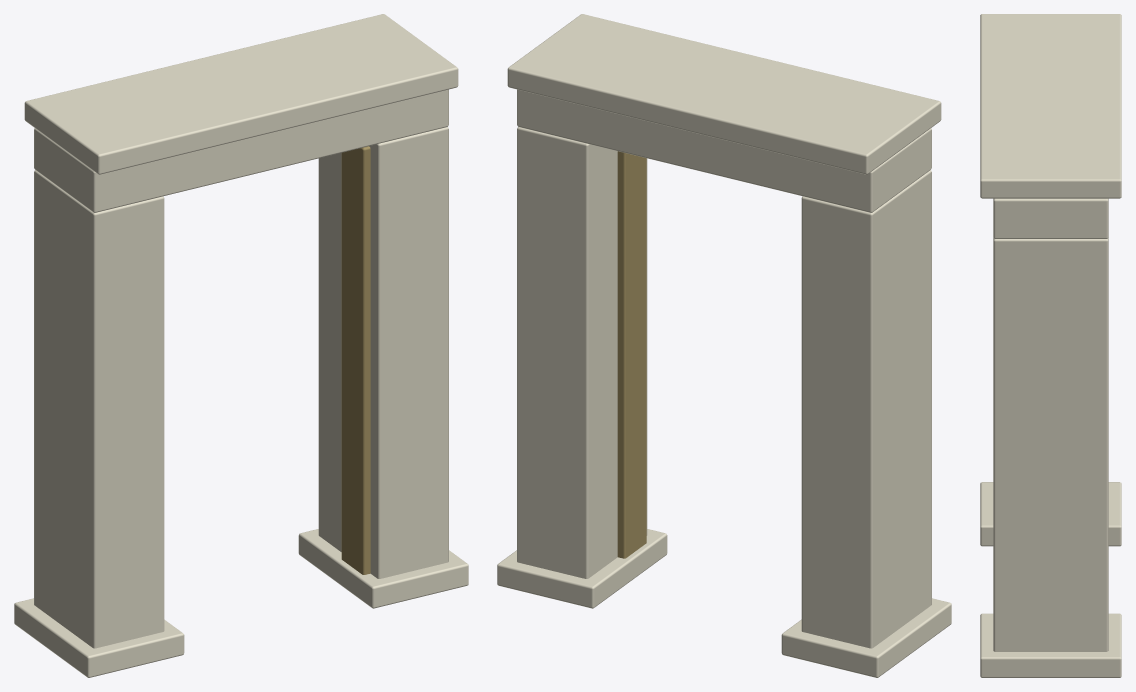
The model's file is water-clock-garden-and-hydraulic-puzzles-archway-door--7513dd66__31968.glb.
The picture shows the model from 3 angles, left to right: view 1: azimuth 30°, elevation 25°; view 2: azimuth 150°, elevation 25°; view 3: azimuth 270°, elevation 25°; orthographic projection. The views are drawn at different scales.
Parts seen in each view (by area): view 1: archway-door-surround; view 2: archway-door-surround; view 3: archway-door-surround.
Boxes of the visible parts, x1,y1,x2,y2 form: archway-door-surround: [14, 14, 468, 677]; archway-door-surround: [497, 14, 951, 677]; archway-door-surround: [980, 14, 1121, 677].
Size of the model in its own units: 2.36 by 3.08 by 0.8002.
